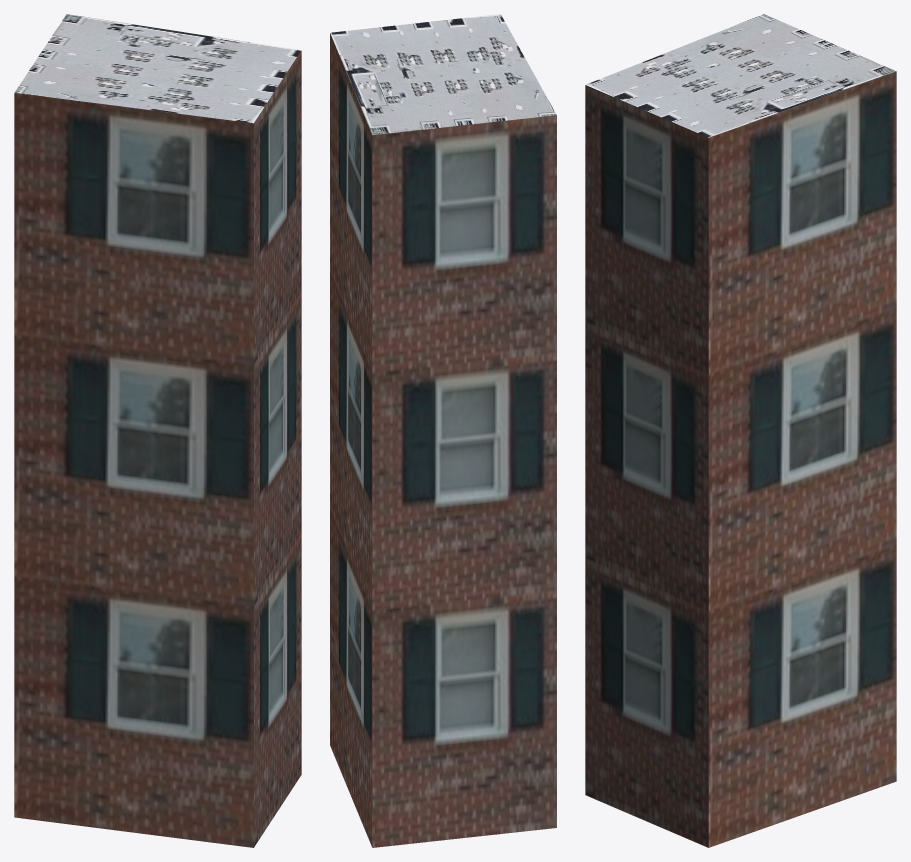
Rendered from ResTex__1256.fbx.
3 views of the same model, side by side, from view 1: azimuth 30°, elevation 25°; view 2: azimuth 150°, elevation 25°; view 3: azimuth 270°, elevation 25° (orthographic). The views are drawn at different scales.
Visible parts, largest first — view 1: CityEngineMaterial_14_m, CityEngineMaterial_m; view 2: CityEngineMaterial_14_m, CityEngineMaterial_m; view 3: CityEngineMaterial_14_m, CityEngineMaterial_m.
Part boxes in pixels (x1,y1,x2,y2): CityEngineMaterial_14_m: [14, 50, 301, 847]; CityEngineMaterial_m: [14, 14, 301, 123]; CityEngineMaterial_14_m: [330, 33, 556, 847]; CityEngineMaterial_m: [330, 14, 556, 134]; CityEngineMaterial_14_m: [585, 71, 896, 847]; CityEngineMaterial_m: [586, 14, 895, 137].
Size of the model in its own units: 3.36 by 9 by 3.58.
2 materials, 2 textured.
